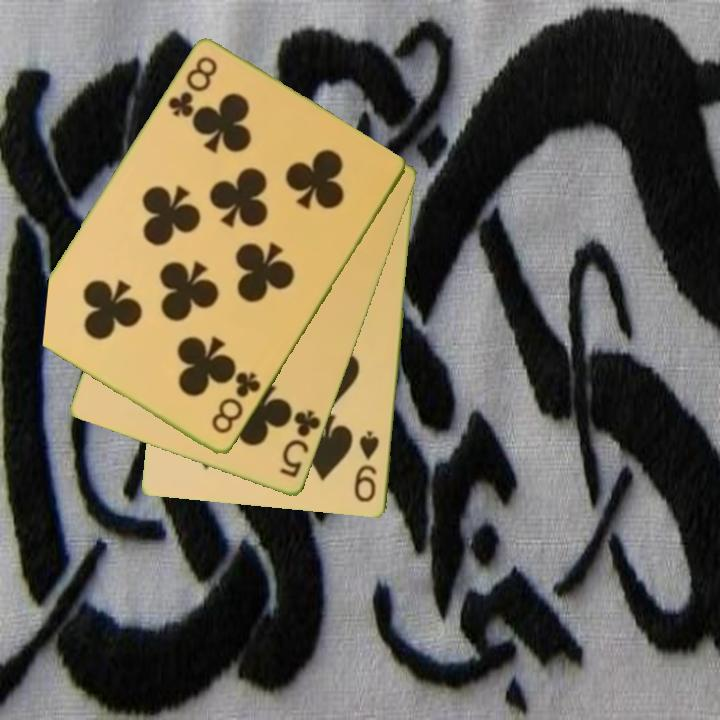5c: (277, 407, 324, 482)
8c: (164, 53, 221, 122), (208, 368, 264, 438)
9s: (351, 427, 382, 506)
